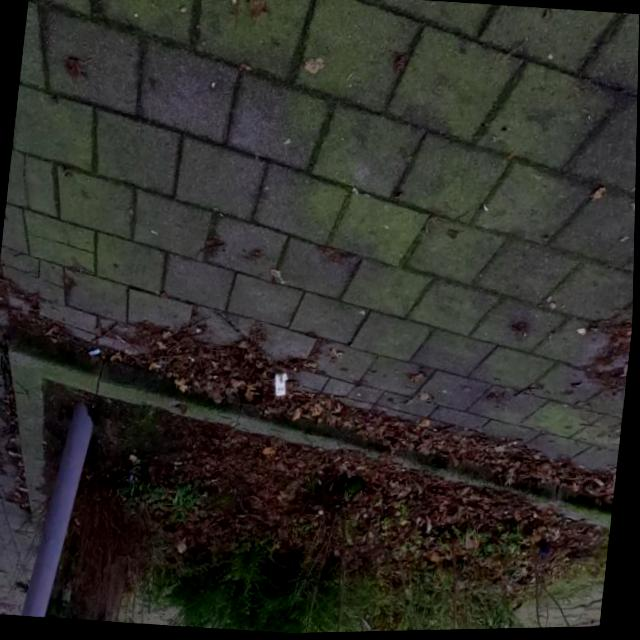Paper: (273, 372, 289, 399)
